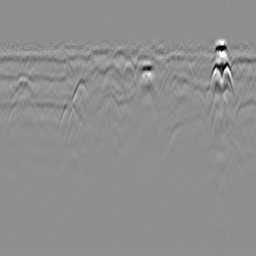cavity: (121, 59, 137, 90)
